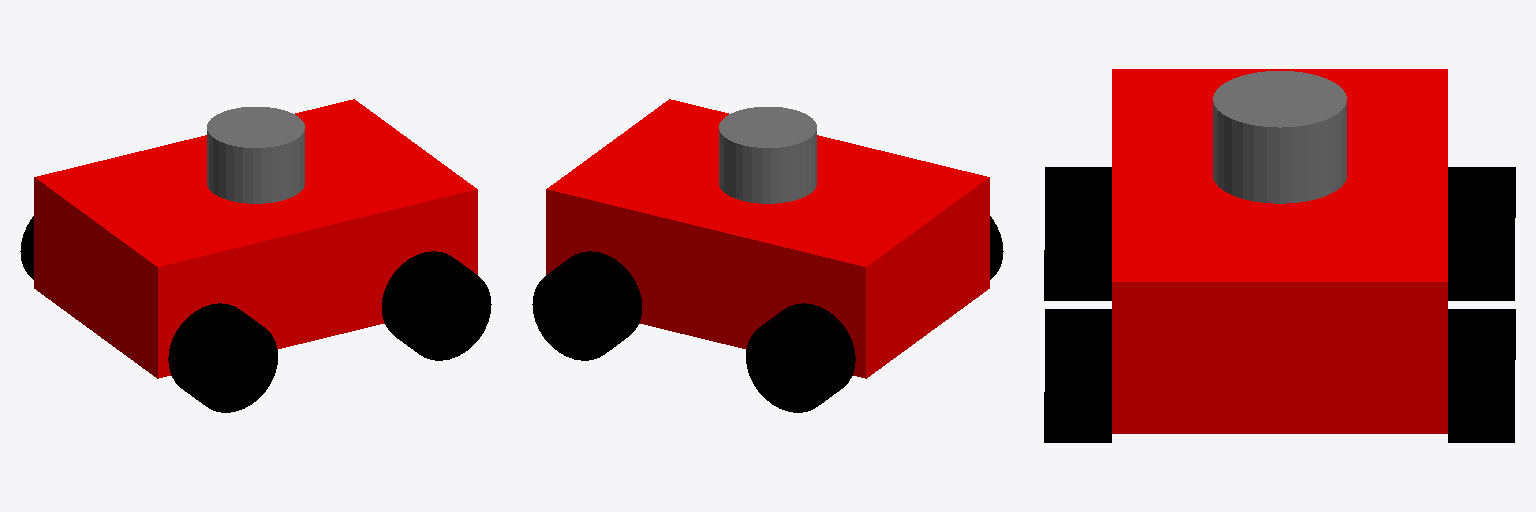
robot.urdf — robot:
<?xml version="1.0"?>
<robot name="robot" xmlns:xacro="http://ros.org/wiki/xacro">

    <!--#########-->
    <!-- PLUGINS -->
    <!--#########-->
	<webots>

        <plugin type="mecanum_robot_sim.mecanum_robot_driver.MecanumRobotDriver"/>

		<device reference="lidar" type="Lidar">
            <ros>
                <enabled>true</enabled>
                <updateRate>10</updateRate>
                <topicName>/scan</topicName>
                <alwaysOn>true</alwaysOn>
                <frameName>lidar</frameName>
            </ros>
        </device>

        <plugin type="webots_ros2_driver::Ros2IMU">
            <enabled>True</enabled>
            <topicName>/imu/data</topicName>
            <updateRate>10</updateRate>
            <alwaysOn>True</alwaysOn>
            <frameName>imu</frameName>
            <inertialUnitName>imu</inertialUnitName>
            <gyroName>gyro</gyroName>
            <accelerometerName>accelerometer</accelerometerName>
        </plugin>

    </webots>

    <!--########-->
    <!-- COLORS -->
    <!--########-->
    <material name="red">
        <color rgba="1.0 0.0 0.0 1.0"/>
    </material>

    <material name="black">
        <color rgba="0.0 0.0 0.0 1.0"/>
    </material>

    <material name="gray">
        <color rgba="0.5 0.5 0.5 1.0"/>
    </material>

    <!--######-->
    <!-- BODY -->
    <!--######-->
	<link name="base_link">
		<visual>
            <geometry>
                <box size="0.3 0.2 0.1"/>
            </geometry>
            <material name="red"/>
		</visual>
		<collision>
            <geometry>
                <box size="0.3 0.2 0.1"/>
            </geometry>
		</collision>
	</link>

    <!--########-->
    <!-- WHEELS -->
    <!--########-->

    <!-- Motor 1 -->
    <joint name="motor1" type="continuous">
		<parent link="base_link"/>
		<child link="wheel1"/>
		<axis xyz="0 0 -1"/>
		<limit effort="10" velocity="20"/>
		<origin xyz="0.1 0.12 -0.035" rpy="1.57 0 0"/>
	</joint>
	<link name="wheel1">
		<visual>
		    <origin xyz="0 0 0" rpy="0 0 0"/>
            <geometry>
                <cylinder radius="0.04" length="0.04"/>
            </geometry>
            <material name="black"/>
		</visual>
		<collision>
            <origin xyz="0 0 0" rpy="0 0 0"/>
            <geometry>
                <cylinder radius="0.04" length="0.04"/>
            </geometry>
		</collision>
	</link>

    <!-- Motor 2 -->
	<joint name="motor2" type="continuous">
		<parent link="base_link"/>
		<child link="wheel2"/>
		<axis xyz="0 0 -1"/>
		<limit effort="10" velocity="20"/>
		<origin xyz="0.1 -0.12 -0.035" rpy="1.57 0 0"/>
	</joint>
	<link name="wheel2">
		<visual>
            <origin xyz="0 0 0" rpy="0 0 0"/>
            <geometry>
                <cylinder radius="0.04" length="0.04"/>
            </geometry>
            <material name="black"/>
		</visual>
		<collision>
            <origin xyz="0 0 0" rpy="0 0 0"/>
            <geometry>
                <cylinder radius="0.04" length="0.04"/>
            </geometry>
		</collision>
	</link>

    <!-- Motor 3 -->
	<joint name="motor3" type="continuous">
		<parent link="base_link"/>
		<child link="wheel3"/>
		<axis xyz="0 0 -1"/>
		<limit effort="10" velocity="20"/>
		<origin xyz="-0.1 0.12 -0.035" rpy="1.57 0 0"/>
	</joint>
	<link name="wheel3">
		<visual>
            <origin xyz="0 0 0" rpy="0 0 0"/>
            <geometry>
                <cylinder radius="0.04" length="0.04"/>
            </geometry>
            <material name="black"/>
		</visual>
		<collision>
            <origin xyz="0 0 0" rpy="0 0 0"/>
            <geometry>
                <cylinder radius="0.04" length="0.04"/>
            </geometry>
		</collision>
	</link>

    <!-- Motor 4 -->
    <joint name="motor4" type="continuous">
		<parent link="base_link"/>
		<child link="wheel4"/>
		<axis xyz="0 0 -1"/>
		<limit effort="10" velocity="20"/>
		<origin xyz="-0.1 -0.12 -0.035" rpy="1.57 0 0"/>
	</joint>
    <link name="wheel4">
		<visual>
            <origin xyz="0 0 0" rpy="0 0 0"/>
            <geometry>
                <cylinder radius="0.04" length="0.04"/>
            </geometry>
            <material name="black"/>
		</visual>
		<collision>
            <origin xyz="0 0 0" rpy="0 0 0"/>
            <geometry>
                <cylinder radius="0.04" length="0.04"/>
            </geometry>
		</collision>
	</link>

    <!--#########-->
    <!-- SENSORS -->
    <!--#########-->

    <!-- Lidar -->
	<joint name="base_link_lidar_joint" type="fixed">
		<parent link="base_link"/>
		<child link="lidar"/>
		<origin xyz="0 0 0.075" rpy="0 0 0"/>
	</joint>
	<link name="lidar">
		<visual>
            <origin xyz="0 0 0" rpy="0 0 0"/>
            <geometry>
                <cylinder radius="0.04" length="0.05"/>
            </geometry>
            <material name="gray"/>
		</visual>
		<collision>
            <origin xyz="0 0 0" rpy="0 0 0"/>
            <geometry>
                <cylinder radius="0.04" length="0.05"/>
            </geometry>
		</collision>
	</link>

    <!-- IMU -->
    <joint name="base_link_to_imu" type="fixed">
        <parent link="base_link"/>
        <child link="imu"/>
        <origin xyz="0 0 0" rpy="0 0 0"/>
    </joint>
    <link name="imu">
        <visual>
            <origin xyz="0 0 0" rpy="0 0 0"/>
            <geometry>
                <box size="0.01 0.01 0.01"/>
            </geometry>
            <material name="gray"/>
        </visual>
        <collision>
            <origin xyz="0 0 0" rpy="0 0 0"/>
            <geometry>
                <box size="0.01 0.01 0.01"/>
            </geometry>
        </collision>
    </link>
</robot>

--- What the picture shows (computed from the rendered views, not written in the file) ---
Views: 3 orthographic renders of the robot side by side, from view 1: azimuth 30°, elevation 25°; view 2: azimuth 150°, elevation 25°; view 3: azimuth 270°, elevation 25°.
Model robot with 7 links and 6 joints (4 continuous, 2 fixed), rooted at base_link, posed every joint at zero.
Links seen in each view (by area): view 1: base_link, wheel4, wheel2, lidar, wheel3; view 2: base_link, wheel3, wheel1, lidar, wheel4; view 3: base_link, lidar, wheel1, wheel2, wheel3, wheel4.
Boxes of the visible links, left/top/right/bottom form: base_link: left=34, top=99, right=477, bottom=378; wheel4: left=168, top=303, right=277, bottom=412; wheel2: left=382, top=251, right=491, bottom=360; lidar: left=207, top=107, right=304, bottom=203; wheel3: left=20, top=216, right=33, bottom=279; base_link: left=546, top=99, right=989, bottom=378; wheel3: left=746, top=303, right=855, bottom=412; wheel1: left=532, top=251, right=641, bottom=360; lidar: left=719, top=107, right=816, bottom=203; wheel4: left=990, top=216, right=1003, bottom=279; base_link: left=1112, top=69, right=1447, bottom=433; lidar: left=1213, top=71, right=1346, bottom=203; wheel1: left=1448, top=309, right=1515, bottom=442; wheel2: left=1044, top=309, right=1111, bottom=442; wheel3: left=1448, top=167, right=1515, bottom=300; wheel4: left=1044, top=167, right=1111, bottom=300.
Bounding box of the posed robot: 0.3 × 0.2801 × 0.175 m (x, y, z).
Geometry: primitives only (box / cylinder / sphere), no mesh files.